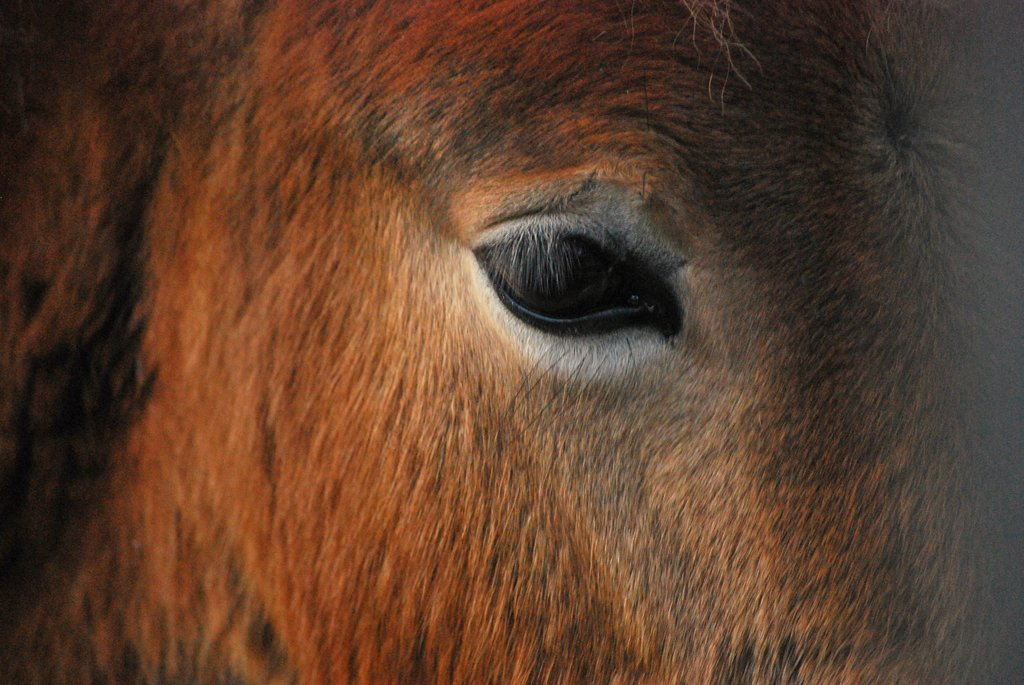Animal: (0, 0, 1022, 684)
